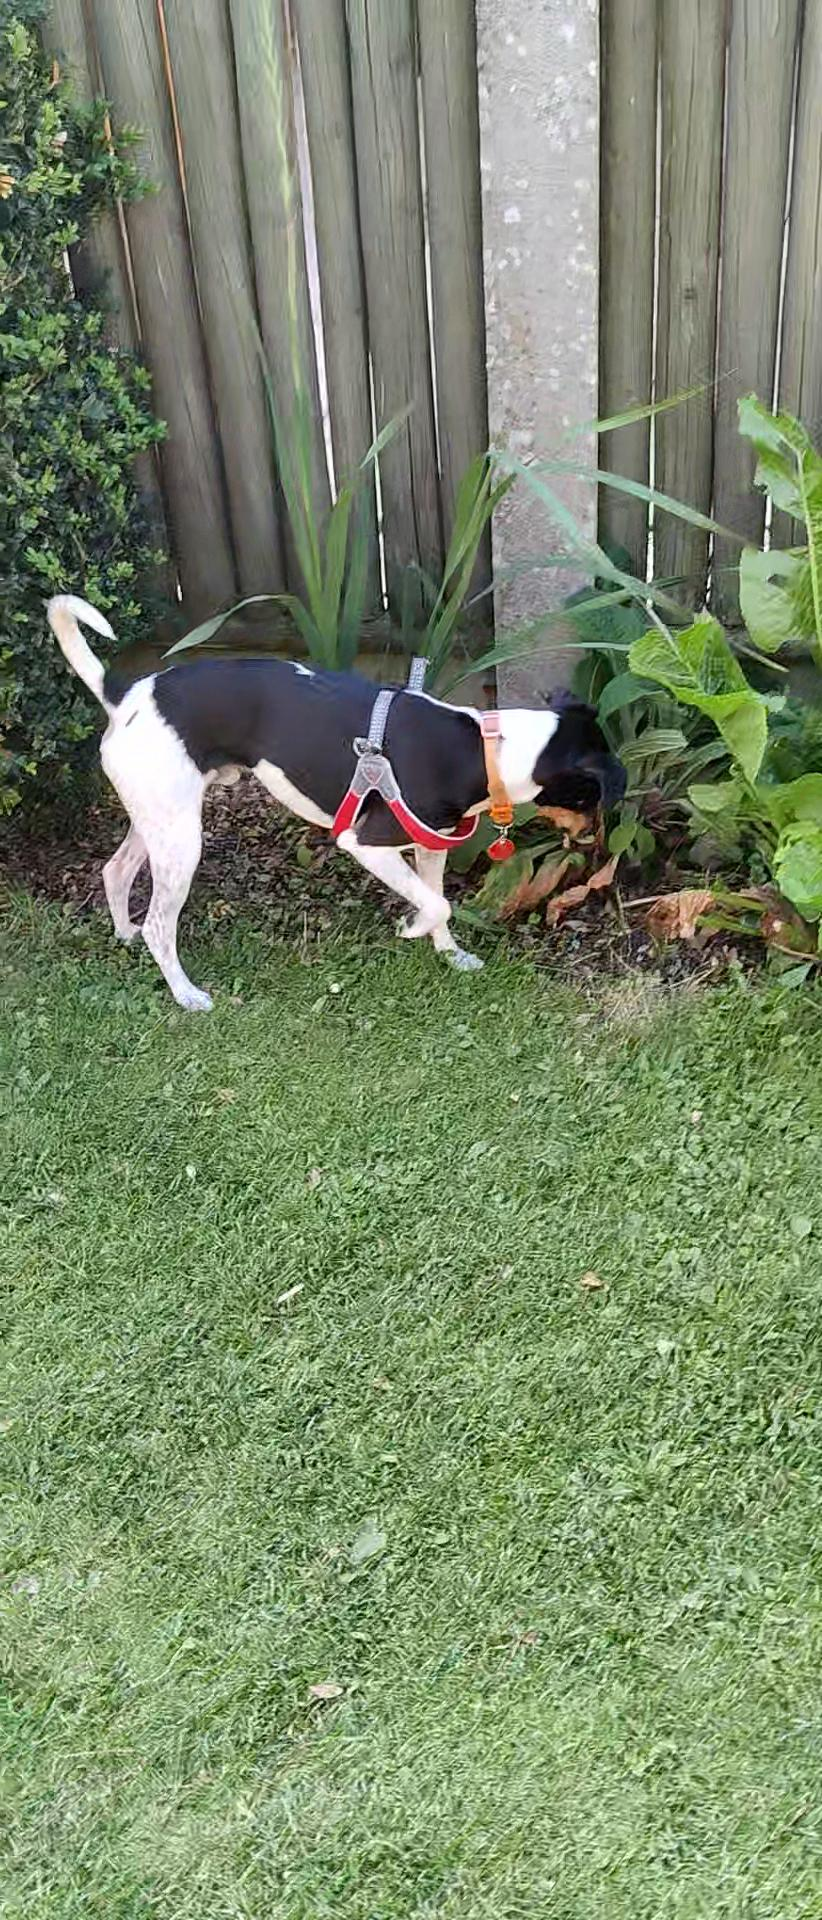Dog: (22, 552, 622, 1037)
